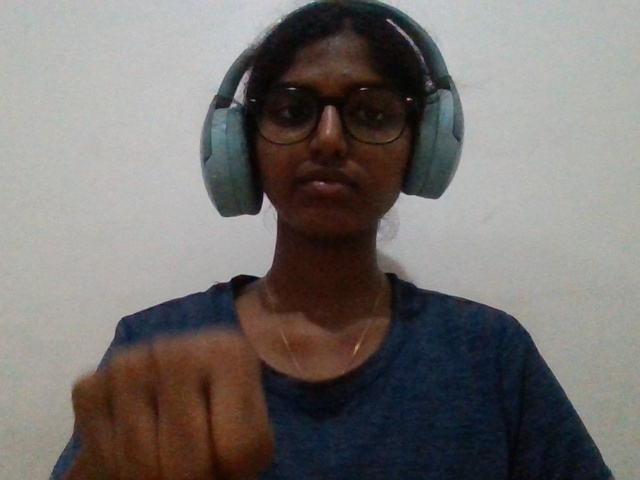Yes: (49, 323, 305, 480)
